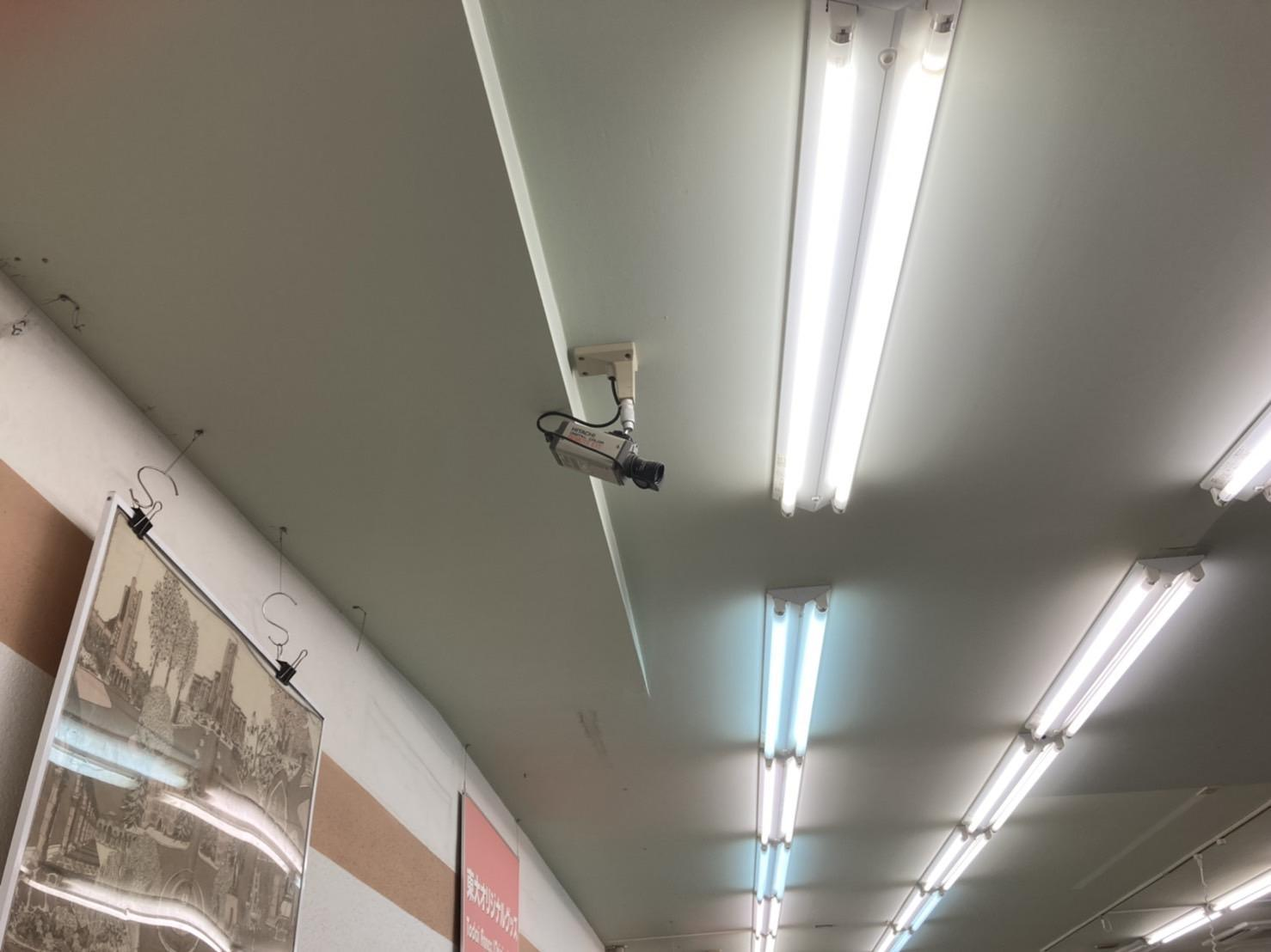tutu: (545, 402, 676, 509)
